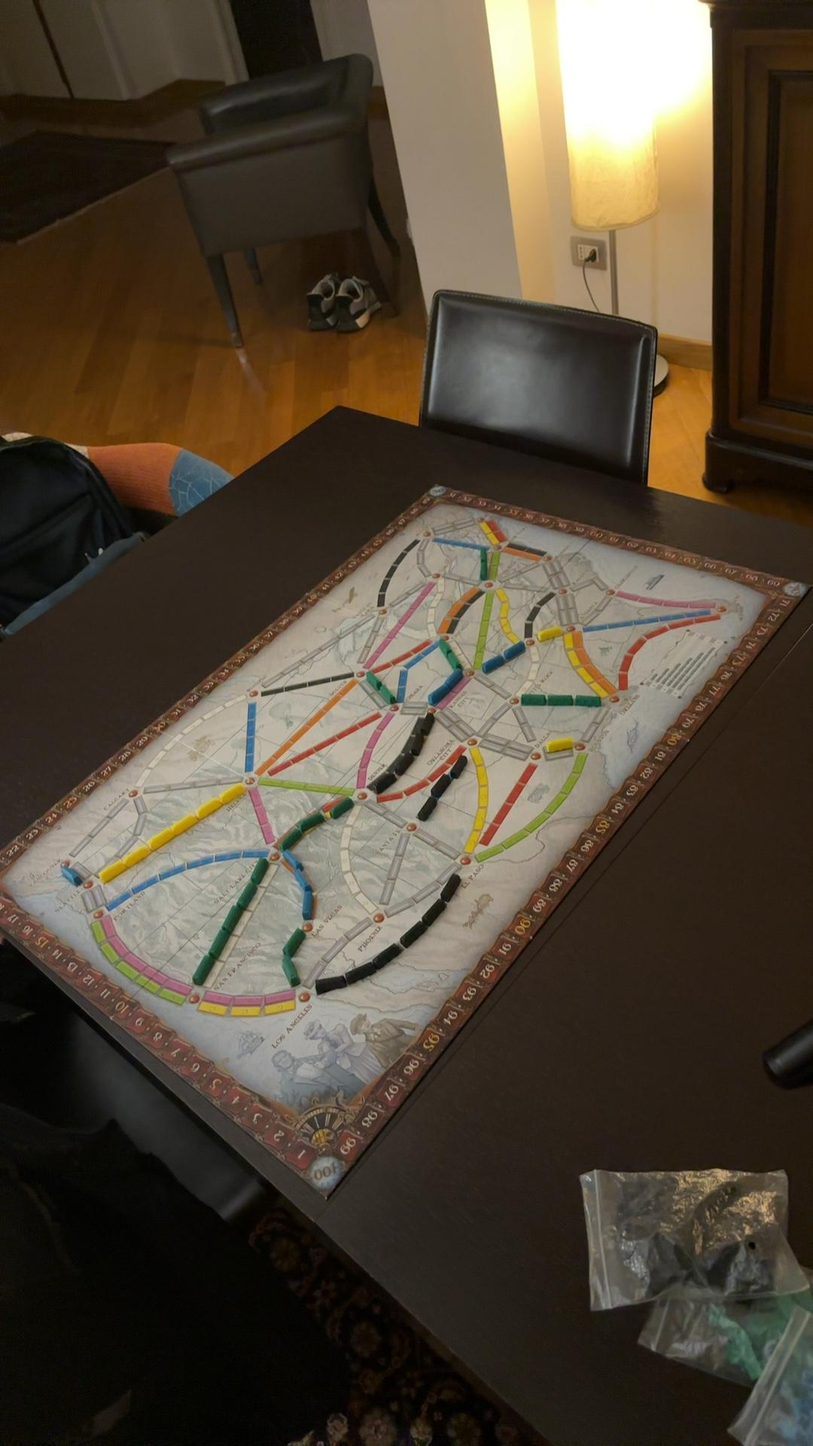black_train: (370, 944, 401, 971), (400, 920, 427, 947), (422, 899, 446, 925), (440, 874, 459, 903), (317, 975, 346, 994), (374, 770, 395, 795), (397, 750, 416, 776), (431, 773, 450, 798), (417, 798, 437, 821), (450, 755, 467, 778), (421, 713, 434, 737)
blue_train: (61, 865, 81, 886), (481, 654, 503, 673), (502, 642, 525, 660), (302, 885, 313, 920)
green_train: (193, 951, 215, 985), (209, 926, 229, 957), (283, 951, 300, 986), (284, 928, 304, 955), (300, 810, 324, 831), (238, 882, 256, 909), (280, 827, 302, 849), (330, 798, 353, 818), (223, 905, 241, 930), (251, 861, 269, 883), (574, 694, 601, 707), (547, 694, 573, 705), (521, 694, 547, 705)
yellow_train: (122, 845, 150, 866), (172, 814, 197, 836), (99, 860, 124, 882), (196, 798, 221, 819), (149, 828, 172, 850), (220, 783, 245, 803), (546, 737, 574, 753)
